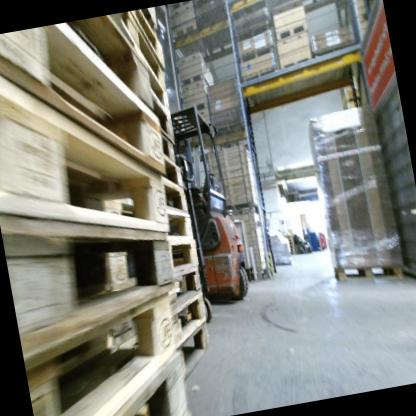forklift: (143, 82, 264, 323)
pallet: (0, 14, 169, 255), (0, 156, 185, 366), (0, 12, 166, 199), (17, 282, 197, 416), (27, 346, 194, 416), (61, 15, 153, 118), (128, 12, 166, 91), (329, 249, 405, 288), (133, 44, 171, 119), (196, 1, 238, 61), (159, 266, 208, 317), (172, 323, 219, 373), (170, 294, 210, 350), (143, 83, 174, 146), (133, 10, 165, 67), (160, 236, 202, 279), (155, 202, 194, 246), (211, 111, 252, 150), (153, 170, 187, 213), (108, 12, 140, 57), (312, 39, 361, 66), (152, 149, 183, 191), (231, 21, 273, 52), (148, 115, 175, 163), (241, 67, 280, 96), (236, 47, 277, 68), (290, 251, 296, 256), (287, 236, 292, 240), (289, 245, 294, 249), (289, 248, 294, 252), (289, 242, 293, 246), (288, 240, 292, 243)
pallet_truck: (144, 141, 227, 339)
